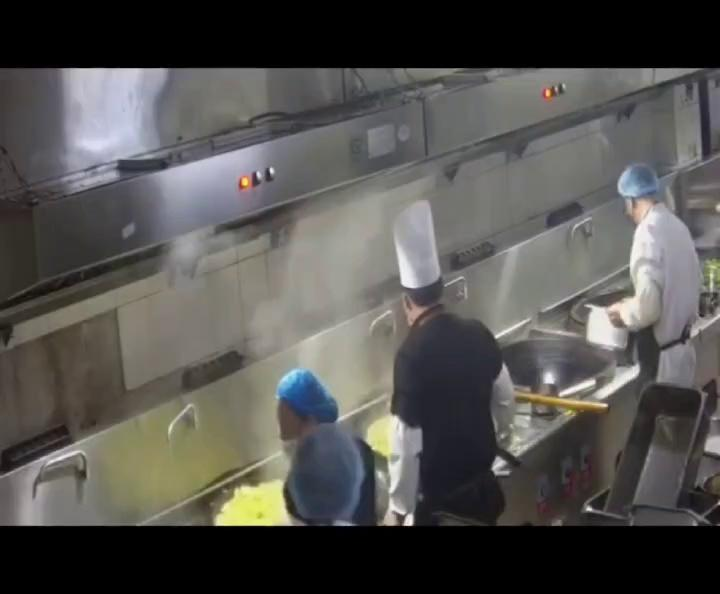mask: (276, 418, 302, 462)
